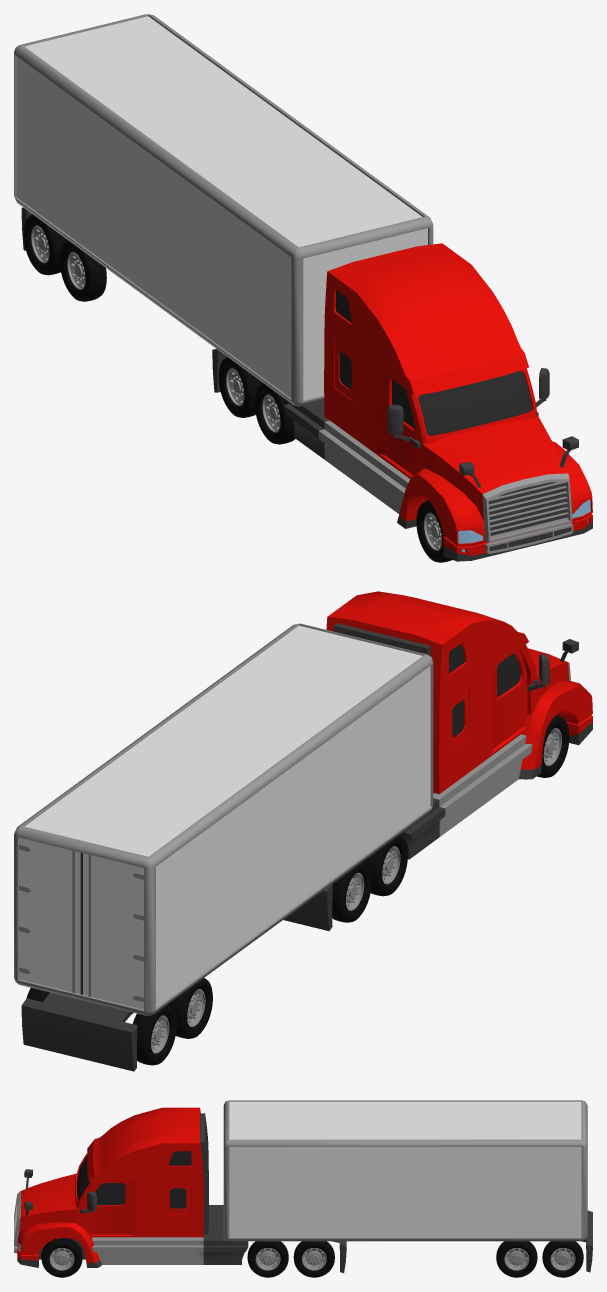
File: truck.fbx
3 views of the same model, one above another, from view 1: azimuth 30°, elevation 25°; view 2: azimuth 150°, elevation 25°; view 3: azimuth 270°, elevation 25° (orthographic). The views are drawn at different scales.
Parts seen in each view (by area): view 1: trailer, truck, grille, tire.008, tire.009, tire.005, tire.004, tire.001; view 2: trailer, truck, trailer door, trailer door.001, trailer base, tire.009, tire.005, tire.004, tire.008, tire.001; view 3: trailer, truck, tire, tire.003, tire.002, tire.006, tire.007, hub.001, hub.008, hub.007, hub.002, hub.003 (+1 smaller).
Part boxes in pixels (x1,y1,x2,y2): trailer: (14,14,433,406); truck: (212,243,592,561); grille: (488,482,568,537); tire.008: (60,240,106,301); tire.009: (23,214,68,275); tire.005: (218,357,263,417); tire.004: (255,383,295,444); tire.001: (416,500,451,562); trailer: (14,623,433,1015); truck: (283,591,592,930); trailer door: (19,837,81,994); trailer door.001: (82,853,143,1009); trailer base: (21,992,137,1071); tire.009: (132,1004,176,1065); tire.005: (332,862,371,922); tire.004: (363,835,407,896); tire.008: (168,978,212,1038); tire.001: (536,715,569,777); trailer: (223,1100,587,1241); truck: (14,1107,346,1273); tire: (41,1238,82,1277); tire.003: (293,1241,334,1277); tire.002: (247,1241,288,1277); tire.006: (496,1241,537,1277); tire.007: (542,1241,583,1277); hub.001: (49,1248,74,1270); hub.008: (550,1248,575,1270); hub.007: (504,1248,529,1270); hub.002: (255,1248,280,1270); hub.003: (302,1248,326,1270).
Size of the model in its own units: 334 by 434 by 1629.
